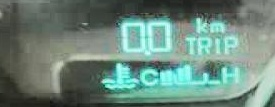-: (141, 48, 151, 55)
0: (116, 20, 145, 51), (145, 20, 171, 50)
X: (138, 68, 156, 85), (219, 65, 238, 81), (195, 34, 210, 54), (223, 34, 238, 53), (181, 35, 195, 54), (193, 15, 206, 32), (208, 19, 223, 31), (211, 35, 220, 54)
